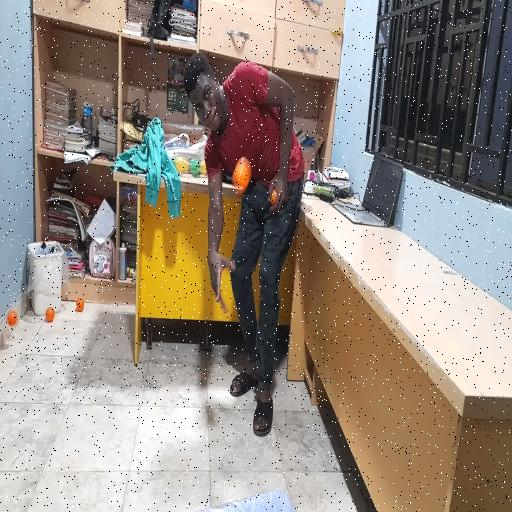plastic-ball: (234, 158, 252, 190)
